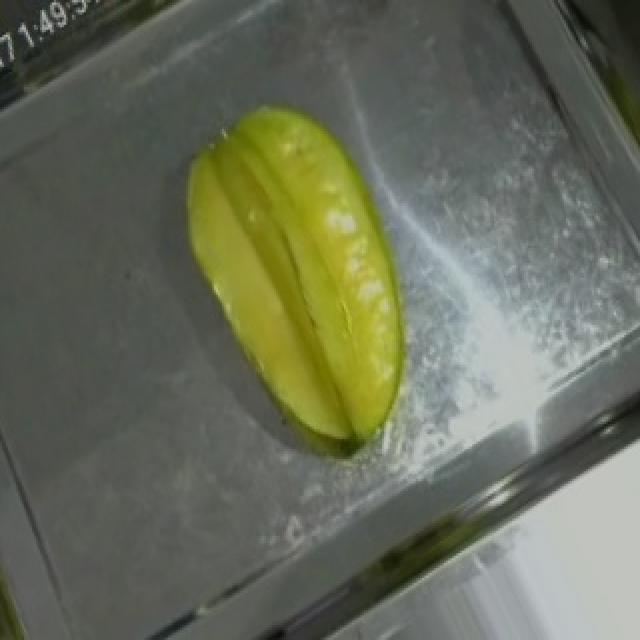fruit: (120, 49, 484, 468)
